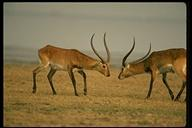antelope: (31, 31, 111, 96), (117, 36, 187, 103)
grass: (6, 102, 179, 123)
water: (6, 19, 181, 32)
